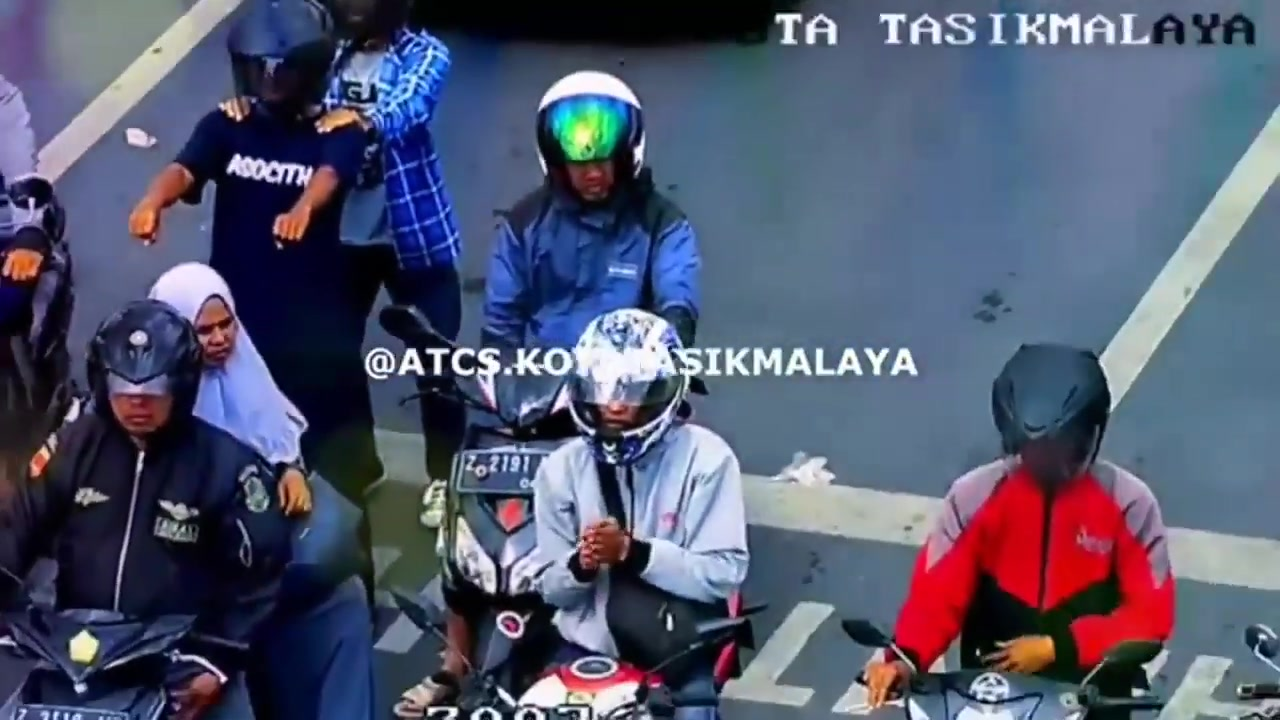person with helmet: (978, 322, 1121, 523), (562, 303, 701, 485), (523, 68, 663, 222)
person with motorcycle: (26, 255, 291, 720), (916, 328, 1185, 720), (522, 299, 761, 720)
